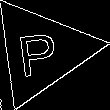P_N: (18, 24, 65, 78)
